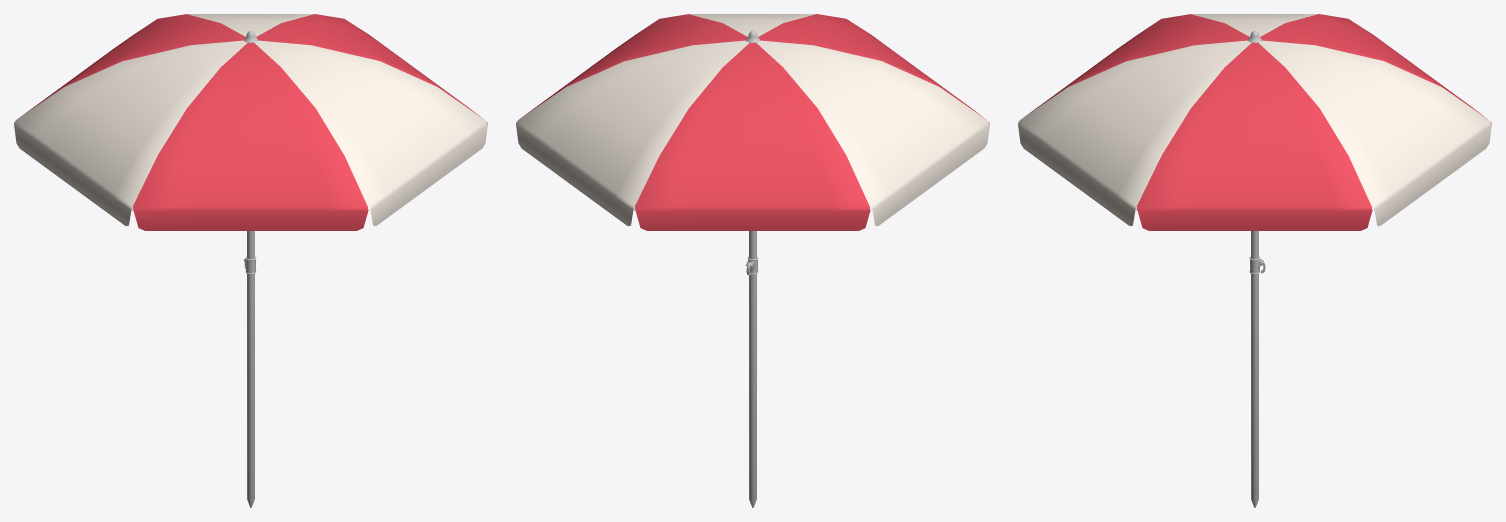
File: Umbrella.fbx
The picture shows the model from 3 angles, left to right: view 1: azimuth 30°, elevation 25°; view 2: azimuth 150°, elevation 25°; view 3: azimuth 270°, elevation 25°; orthographic projection.
Parts seen in each view (by area): view 1: Sphere_002, Cylinder_9, Cylinder_001_2; view 2: Sphere_002, Cylinder_9, Cylinder_001_2; view 3: Sphere_002, Cylinder_9, Cylinder_001_2.
Part boxes in pixels (bbox=[...]): Sphere_002: bbox=[14, 14, 487, 230]; Cylinder_9: bbox=[247, 274, 254, 507]; Cylinder_001_2: bbox=[244, 30, 257, 274]; Sphere_002: bbox=[516, 14, 989, 230]; Cylinder_9: bbox=[749, 274, 756, 507]; Cylinder_001_2: bbox=[745, 30, 759, 275]; Sphere_002: bbox=[1018, 14, 1491, 230]; Cylinder_9: bbox=[1251, 274, 1258, 507]; Cylinder_001_2: bbox=[1248, 30, 1265, 274].
Size of the model in its own units: 127 by 162 by 146.
